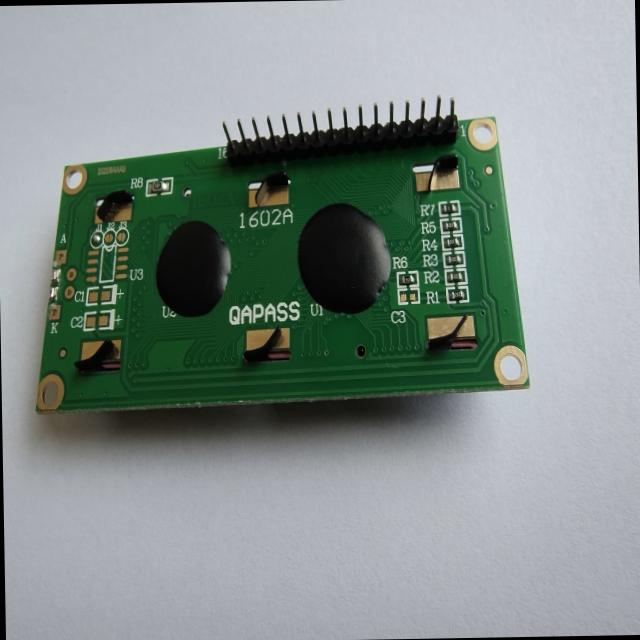lcd: (29, 94, 531, 416)
